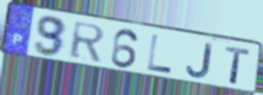6: (110, 27, 140, 70)
9: (33, 15, 69, 59)
J: (185, 42, 214, 80)
L: (146, 33, 174, 75)
R: (69, 20, 108, 63)
T: (224, 45, 253, 87)
